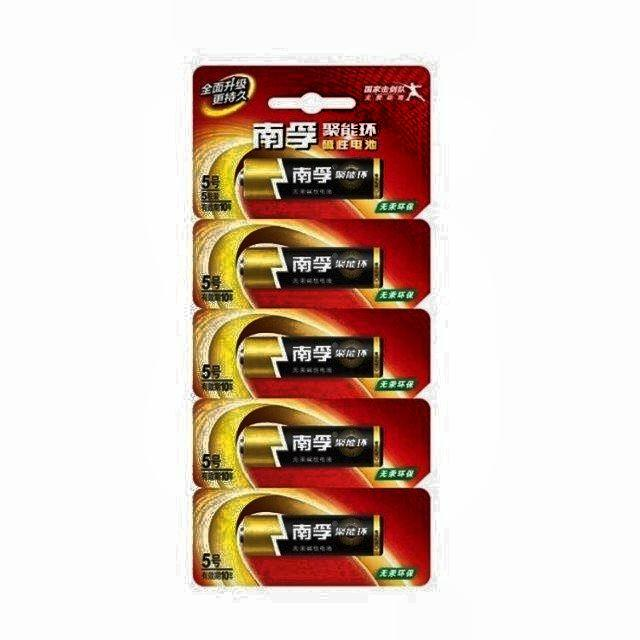Non-Valuable Waste - Batteries: (238, 332, 382, 379), (238, 422, 382, 468), (238, 512, 382, 556), (239, 245, 382, 288), (240, 158, 382, 199)
